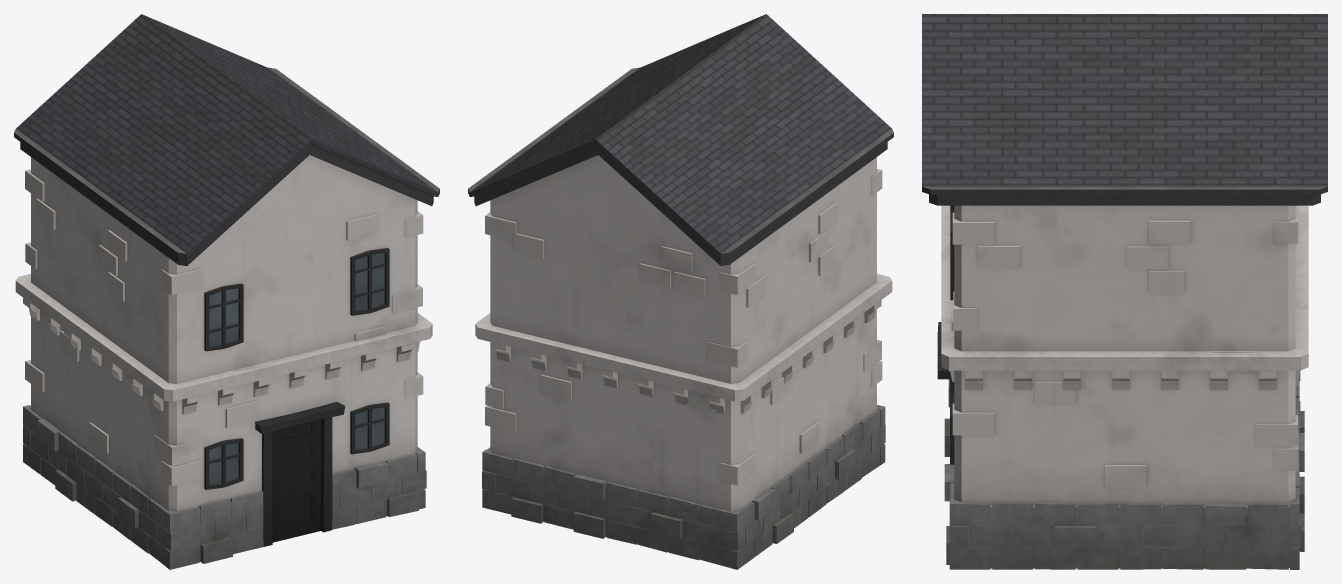
The model's file is 2Story_GableRoof.glb.
The picture shows the model from 3 angles, left to right: view 1: azimuth 30°, elevation 25°; view 2: azimuth 150°, elevation 25°; view 3: azimuth 270°, elevation 25°; orthographic projection. The views are drawn at different scales.
Visible parts, largest first — view 1: 2Story_GableRoof_high; view 2: 2Story_GableRoof_high; view 3: 2Story_GableRoof_high.
Boxes of the visible parts, <box> form: 2Story_GableRoof_high: <box>14,14,439,569</box>; 2Story_GableRoof_high: <box>468,14,893,569</box>; 2Story_GableRoof_high: <box>922,14,1327,569</box>.
Size of the model in its own units: 2.16 by 3.13 by 2.38.
2 materials, 2 textured.
